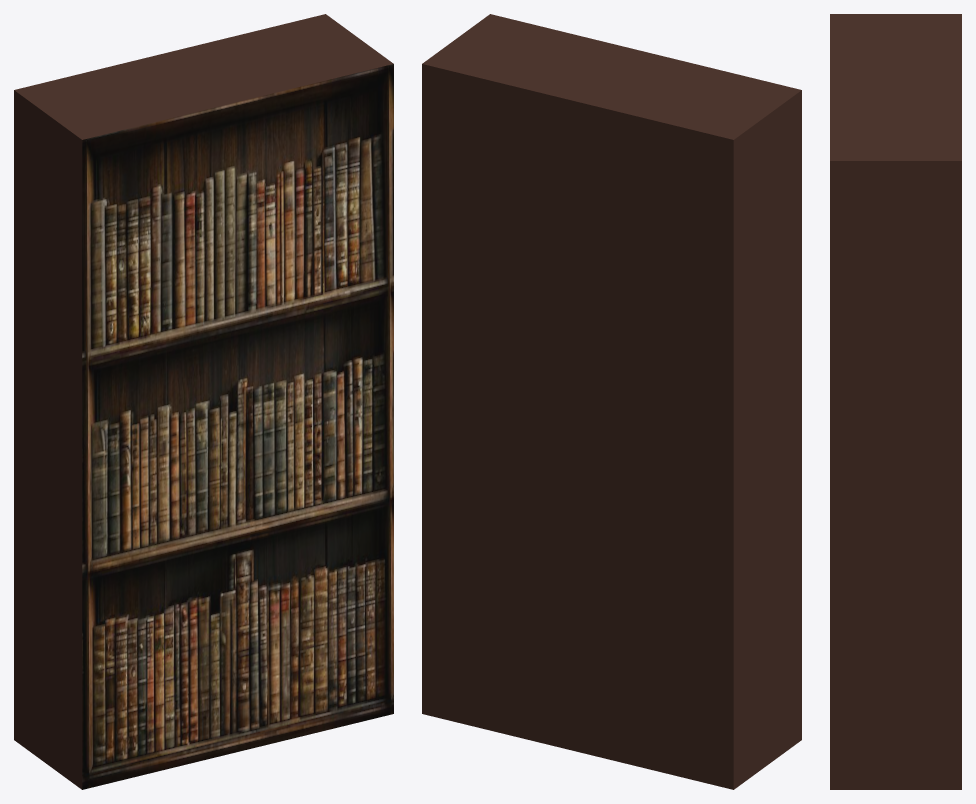
Rendered from Estante de Livros.fbx.
The picture shows the model from 3 angles, left to right: view 1: azimuth 30°, elevation 25°; view 2: azimuth 150°, elevation 25°; view 3: azimuth 270°, elevation 25°; orthographic projection. The views are drawn at different scales.
Visible parts, largest first — view 1: Armario; view 2: Armario; view 3: Armario.
Boxes of the visible parts, left/top/right/bottom form: Armario: left=14, top=14, right=393, bottom=789; Armario: left=422, top=14, right=801, bottom=789; Armario: left=830, top=14, right=961, bottom=789.
Size of the model in its own units: 89.61 by 179 by 33.96.
